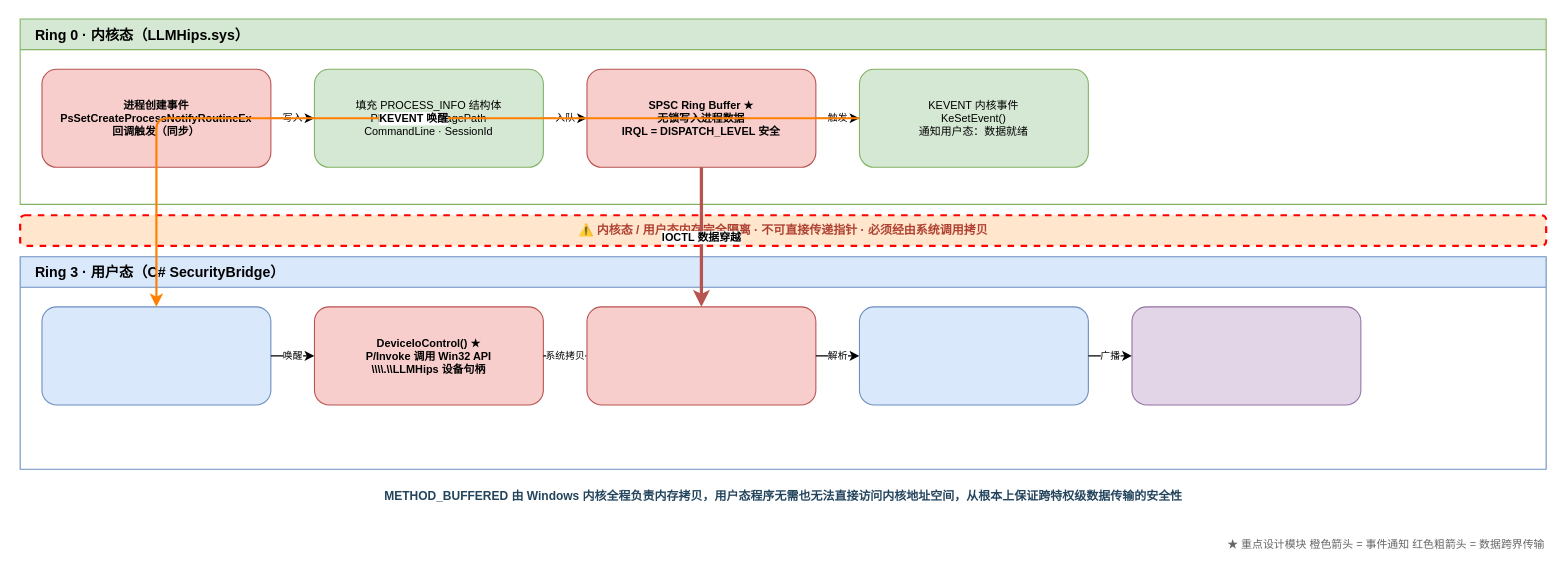
Some shapes in this 1565 by 572 pixel diagram are drawn without their labels. The centre of each missing label's shape, as x and y in pixels:
BinaryReader 反序列化 结构体字段类型安全提取 PID / 路径 / 命令行还原: pixel 973 355
JSON 序列化 ProcessInfo → JSON WebSocket 广播 :9527: pixel 1246 355
KeWaitForSingleObject 阻塞等待 KEVENT 信号 零 CPU 占用挂起: pixel 156 355
METHOD_BUFFERED ★ 内核负责内存安全拷贝 用户态无法访问内核地址: pixel 701 355
